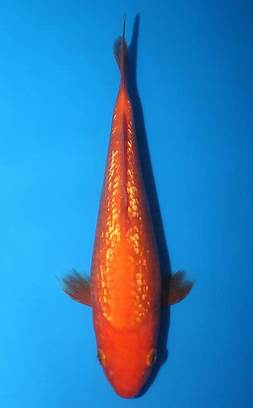red: (57, 12, 193, 399)
